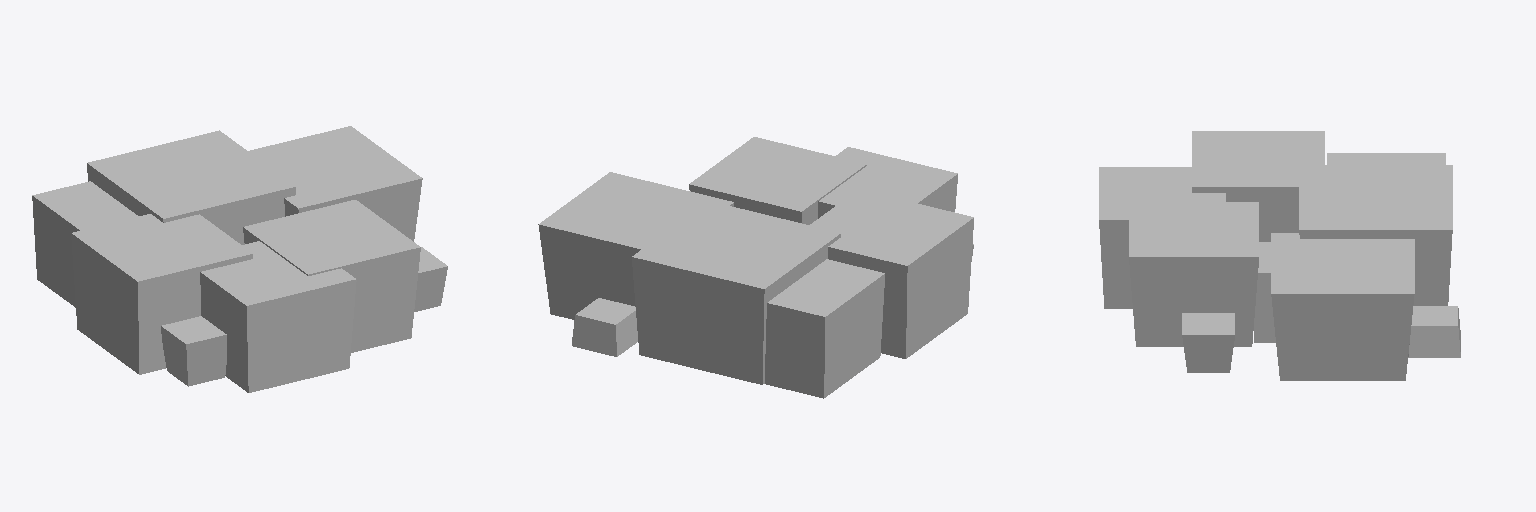
Rendered from dynamax.obj.
3 renders of one model, left to right at view 1: azimuth 30°, elevation 25°; view 2: azimuth 150°, elevation 25°; view 3: azimuth 270°, elevation 25°, orthographic.
Parts seen in each view (by area): view 1: Cube.001; view 2: Cube.001; view 3: Cube.001.
Boxes of the visible parts, x1=… form: Cube.001: x1=32, y1=126, x2=447, y2=392; Cube.001: x1=538, y1=137, x2=973, y2=398; Cube.001: x1=1099, y1=131, x2=1460, y2=380.
Bounding box in the file's own units: 0.9117 × 0.2693 × 0.8807.